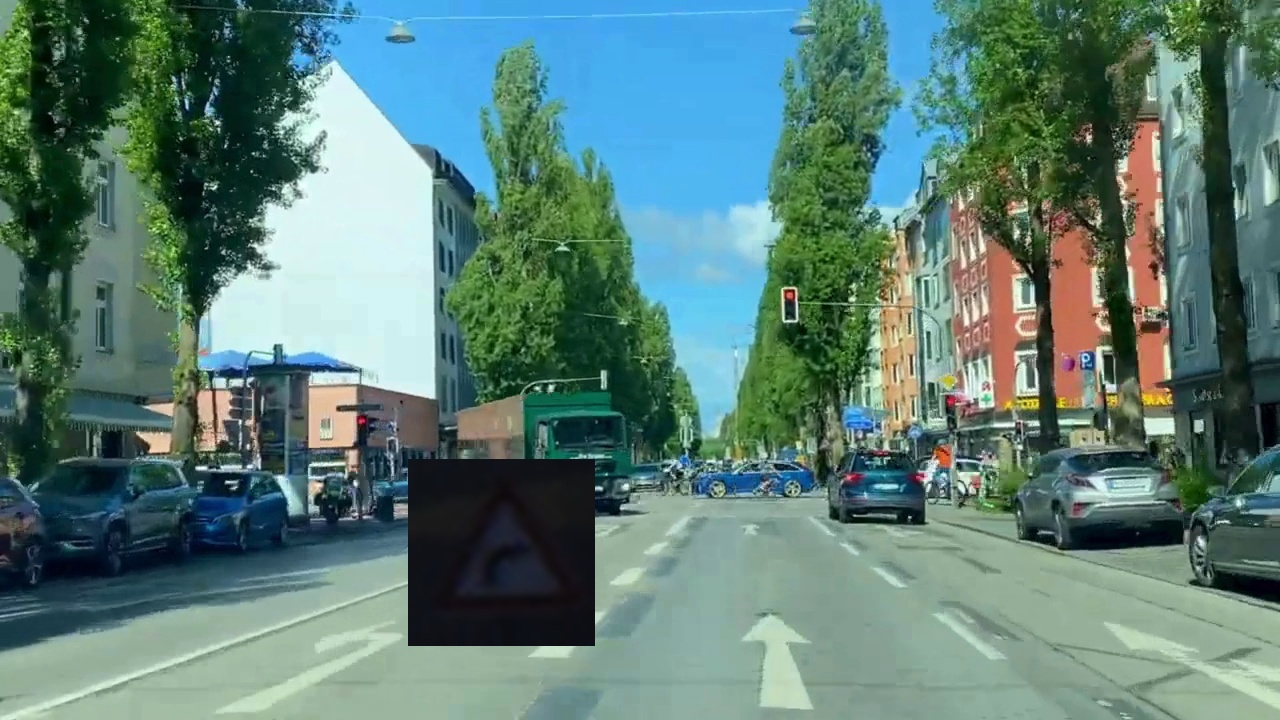Curve right: (408, 459, 595, 646)
